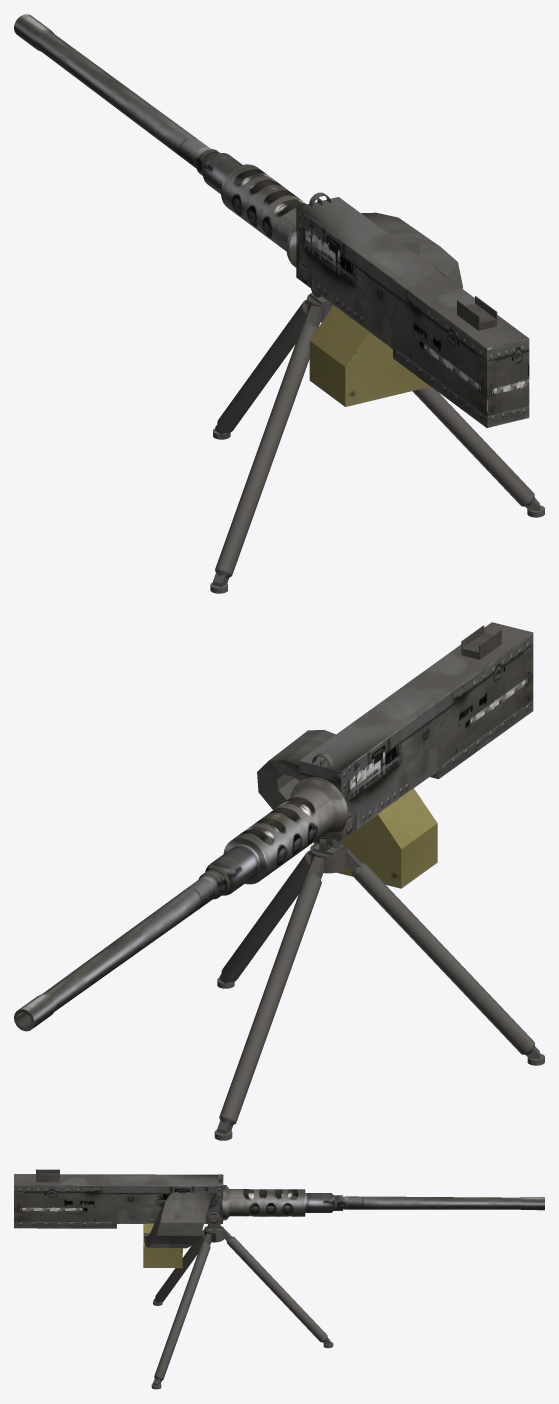
The model's file is 50cal Turret.glb.
3 views of the same model, one above another, from view 1: azimuth 30°, elevation 25°; view 2: azimuth 150°, elevation 25°; view 3: azimuth 270°, elevation 25° (orthographic). The views are drawn at different scales.
Parts seen in each view (by area): view 1: barrel, boxMag, hinge1.003, hinge1.004, hinge1.002, belt; view 2: barrel, boxMag, hinge1.002, hinge1.003, hinge1.004, belt; view 3: barrel, belt, hinge1.004, hinge1.002, boxMag, hinge1.003.
Part boxes in pixels (bbox=[...]): barrel: bbox=[14, 14, 529, 427]; boxMag: bbox=[309, 305, 430, 406]; hinge1.003: bbox=[210, 305, 321, 593]; hinge1.004: bbox=[412, 386, 544, 517]; hinge1.002: bbox=[213, 299, 307, 439]; belt: bbox=[361, 212, 462, 288]; barrel: bbox=[14, 622, 533, 1031]; boxMag: bbox=[313, 788, 437, 888]; hinge1.002: bbox=[214, 856, 324, 1140]; hinge1.003: bbox=[346, 848, 544, 1065]; hinge1.004: bbox=[217, 850, 310, 988]; belt: bbox=[257, 729, 335, 809]; barrel: bbox=[14, 1169, 544, 1228]; belt: bbox=[144, 1192, 216, 1248]; hinge1.004: bbox=[151, 1233, 211, 1389]; hinge1.002: bbox=[224, 1229, 333, 1348]; boxMag: bbox=[143, 1224, 182, 1268]; hinge1.003: bbox=[153, 1230, 204, 1305].
Size of the model in its own units: 1.33 by 1.23 by 3.4.
Materials: 1 (1 with a texture image).
